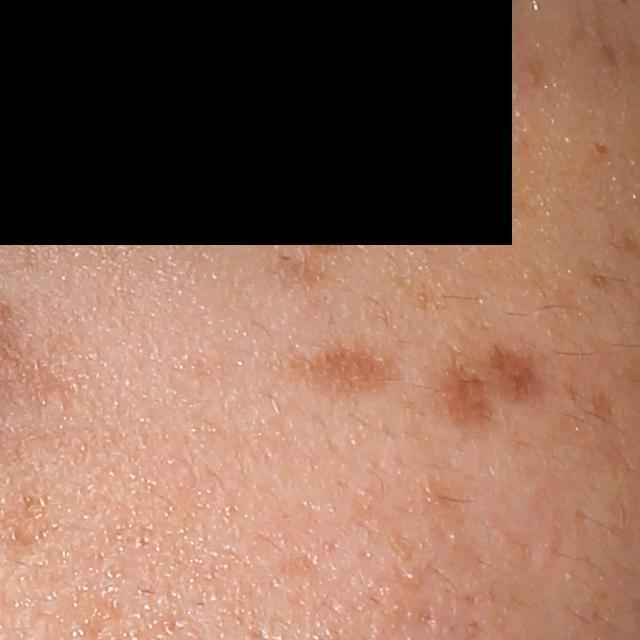melasma: (450, 342, 562, 440), (486, 264, 596, 346), (288, 342, 404, 402), (268, 254, 334, 296), (386, 276, 448, 319), (562, 384, 617, 424), (525, 44, 550, 102), (599, 35, 615, 81)
